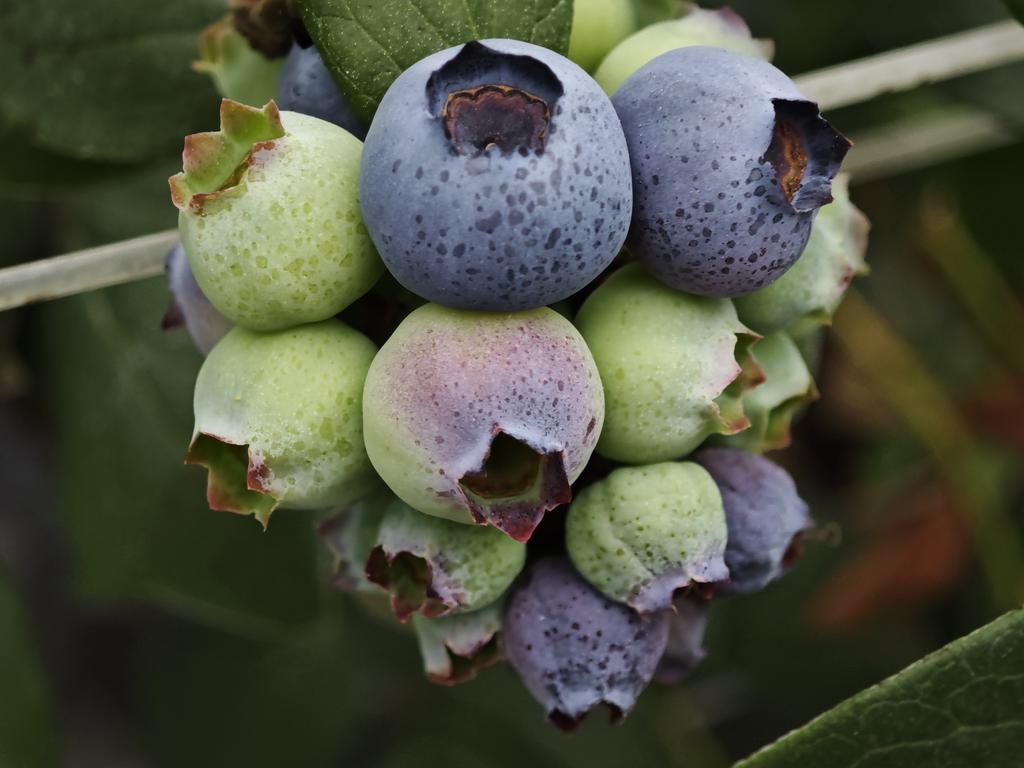RipeBlueBerry: (355, 30, 635, 318), (624, 38, 844, 301)
UnripeBlueBerry: (360, 297, 609, 535), (172, 98, 372, 335)
